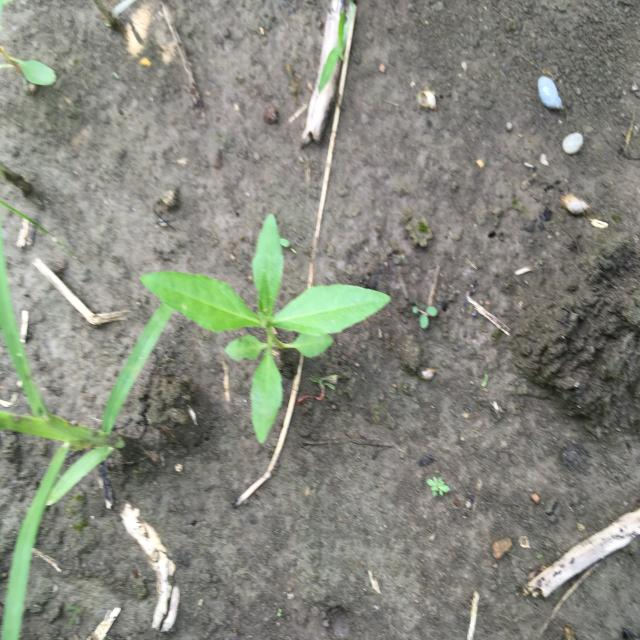Eclipta: (138, 210, 393, 448)
